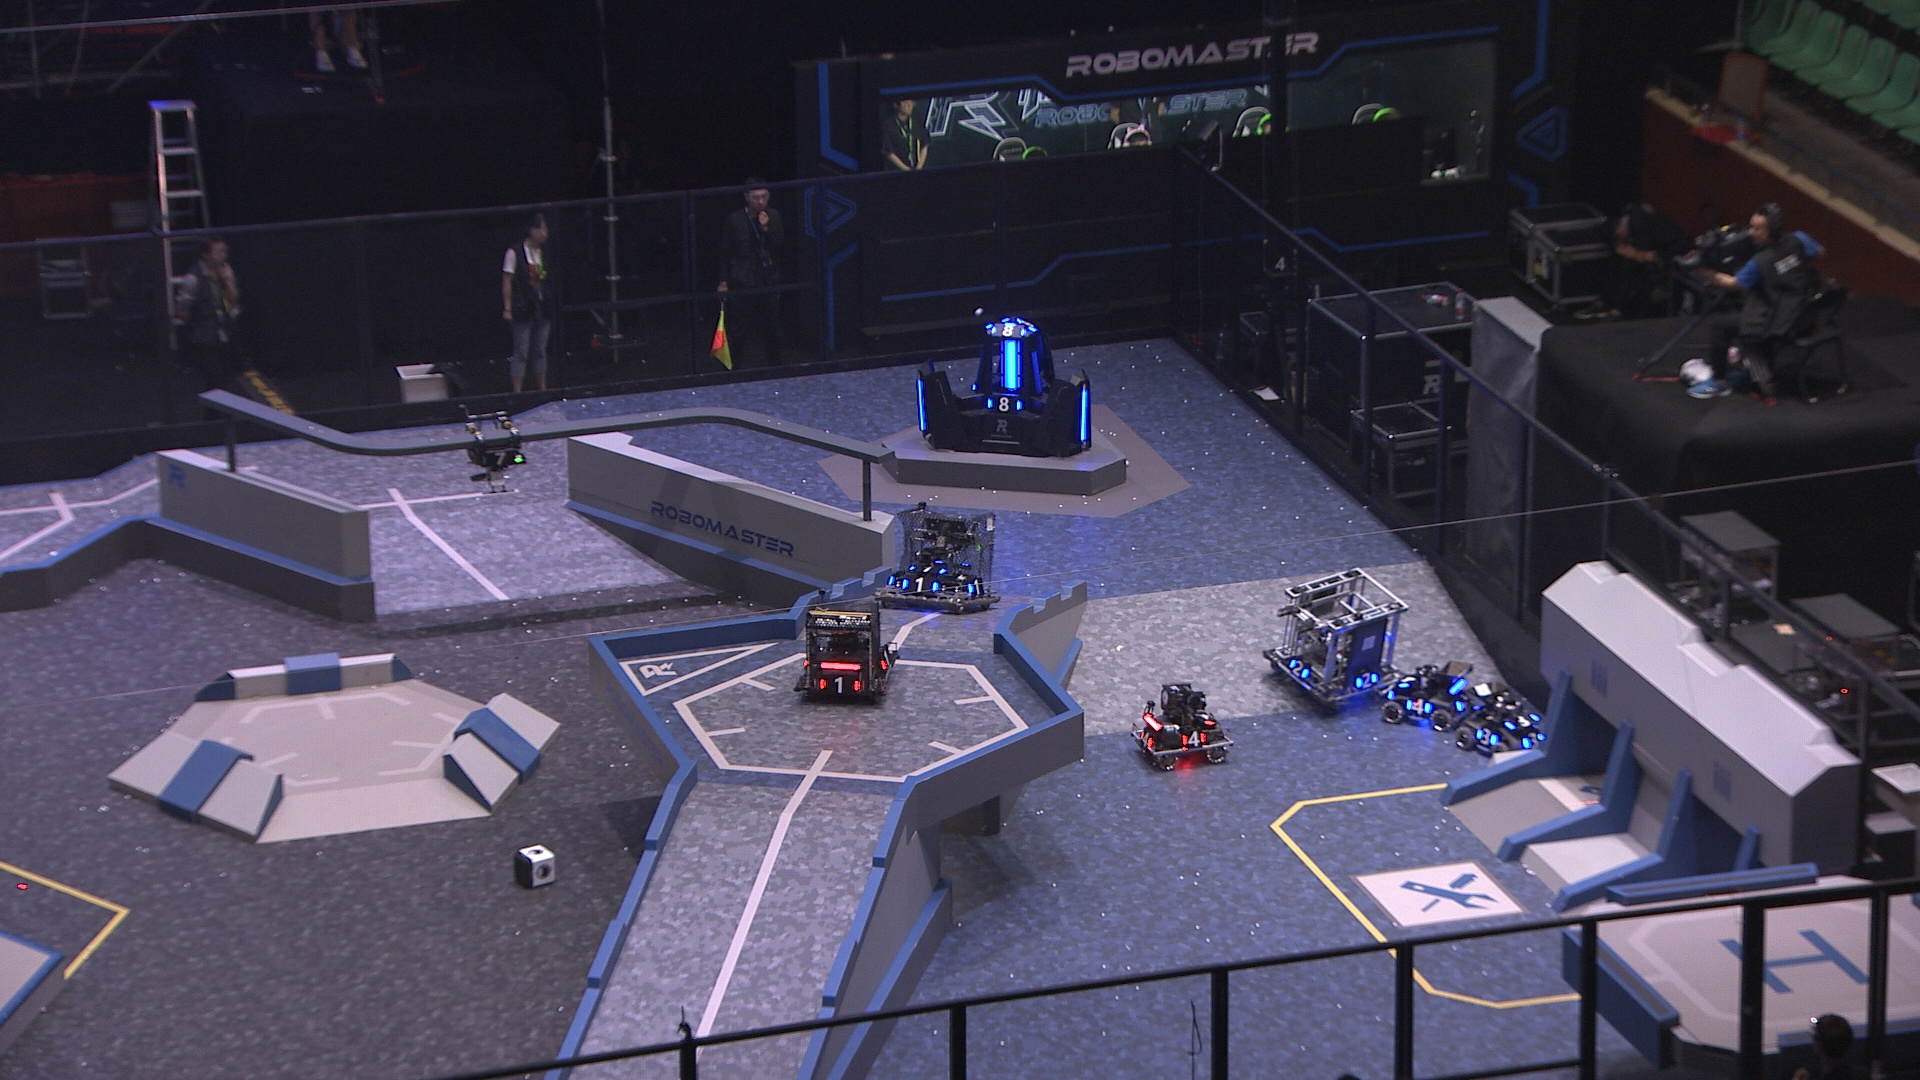armor: (1001, 338, 1025, 392), (913, 373, 931, 434), (1506, 708, 1548, 731), (480, 448, 522, 469), (984, 392, 1022, 414), (1077, 386, 1092, 444), (899, 578, 942, 597), (818, 675, 860, 694), (986, 319, 1026, 338), (903, 560, 949, 576), (1029, 348, 1043, 398), (1476, 723, 1503, 746), (1287, 655, 1309, 683), (1523, 728, 1551, 749), (1404, 698, 1433, 717), (877, 645, 897, 673), (1182, 728, 1207, 749), (1013, 314, 1038, 334), (964, 579, 989, 597), (1456, 688, 1476, 711), (1354, 671, 1377, 690), (1193, 708, 1216, 727), (1138, 727, 1154, 752), (1400, 670, 1422, 688)
base: (909, 309, 1093, 462)
car: (1261, 564, 1404, 713), (865, 496, 1007, 609), (793, 584, 902, 704), (1125, 679, 1237, 774), (1453, 678, 1557, 760), (1385, 659, 1495, 733)
watcher: (456, 404, 529, 495)
